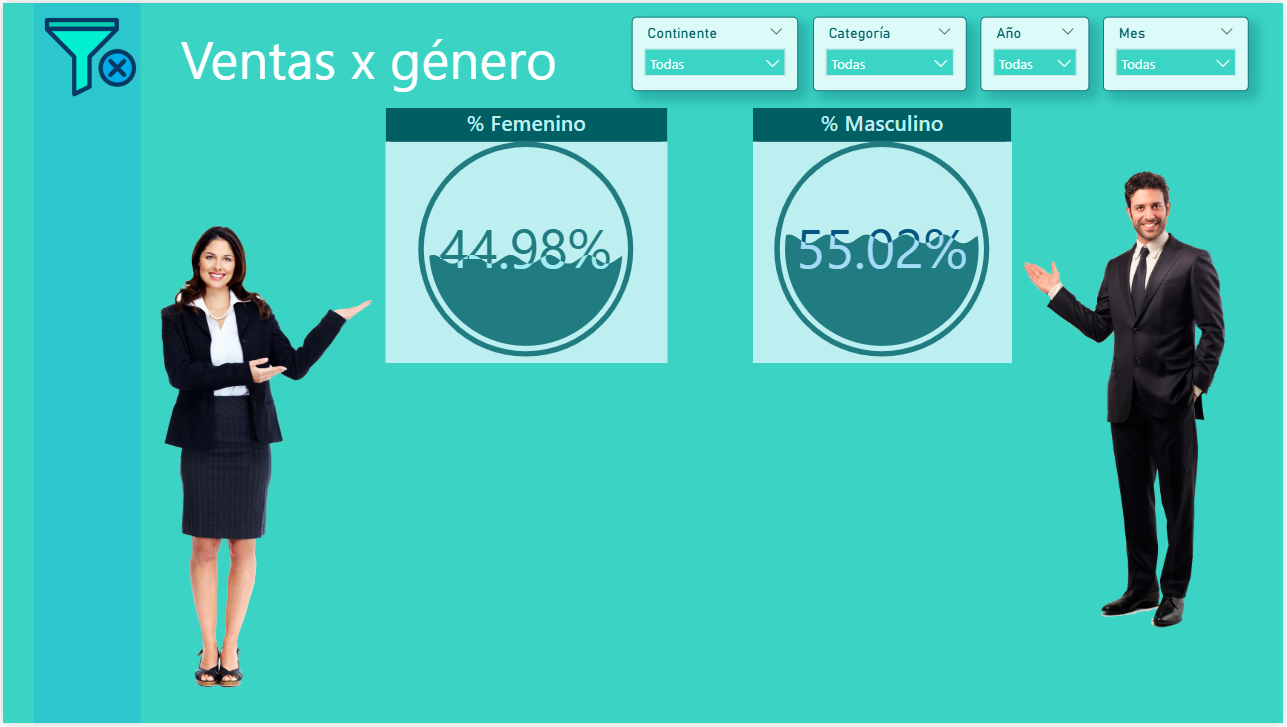

The dashboard page shown, as its layout file describes it:
{"tool":"powerbi","page":{"name":"Ventas por género","canvas":[1280,720],"ordinal":7},"visuals":[{"type":"slicer","fields":{"Values":["DimSalesTerritory.SalesTerritoryGroup"]},"box":[628.8,14.3,166.3,74.1],"z":0},{"type":"slicer","fields":{"Values":["DimProductCategory.SpanishProductCategoryName"]},"box":[809.4,14.3,153.3,74.1],"z":1000},{"type":"slicer","fields":{"Values":["DimCalendario.Año"]},"box":[977,14.3,109.1,74.1],"z":2000},{"type":"slicer","fields":{"Values":["DimCalendario.Mes"]},"box":[1100.5,14.3,145.5,74.1],"z":3000},{"type":"image","box":[36.1,4.2,102.7,101.3],"z":4000},{"type":"textbox","box":[155.5,13.9,422,84.7],"z":5000},{"type":"image","box":[97.2,180.4,301.2,520.5],"z":6000},{"type":"image","box":[998,156.8,248.5,526.1],"z":7000},{"type":"PBI_CV_94E55AB3_5D45_4B62_A49D_19E2109AA031","fields":{"value":["Medidas.% Femenino"]},"box":[383.1,105.5,281.8,254],"z":8000},{"type":"PBI_CV_94E55AB3_5D45_4B62_A49D_19E2109AA031","fields":{"value":["Medidas.% Masculino"]},"box":[749.5,105.5,258.2,254],"z":9000}]}

Visuals, with their boxes in screenshot pixels (x1, y1, x2, y2), scaled from the page's 1280x720 canvas onto the 1287x727 screenshot:
slicer - DimSalesTerritory.SalesTerritoryGroup: (x1=632, y1=14, x2=799, y2=89)
slicer - DimProductCategory.SpanishProductCategoryName: (x1=814, y1=14, x2=968, y2=89)
slicer - DimCalendario.Año: (x1=982, y1=14, x2=1092, y2=89)
slicer - DimCalendario.Mes: (x1=1107, y1=14, x2=1253, y2=89)
image: (x1=36, y1=4, x2=140, y2=107)
textbox: (x1=156, y1=14, x2=581, y2=100)
image: (x1=98, y1=182, x2=401, y2=708)
image: (x1=1003, y1=158, x2=1253, y2=690)
PBI_CV_94E55AB3_5D45_4B62_A49D_19E2109AA031 - Medidas.% Femenino: (x1=385, y1=107, x2=669, y2=363)
PBI_CV_94E55AB3_5D45_4B62_A49D_19E2109AA031 - Medidas.% Masculino: (x1=754, y1=107, x2=1013, y2=363)
